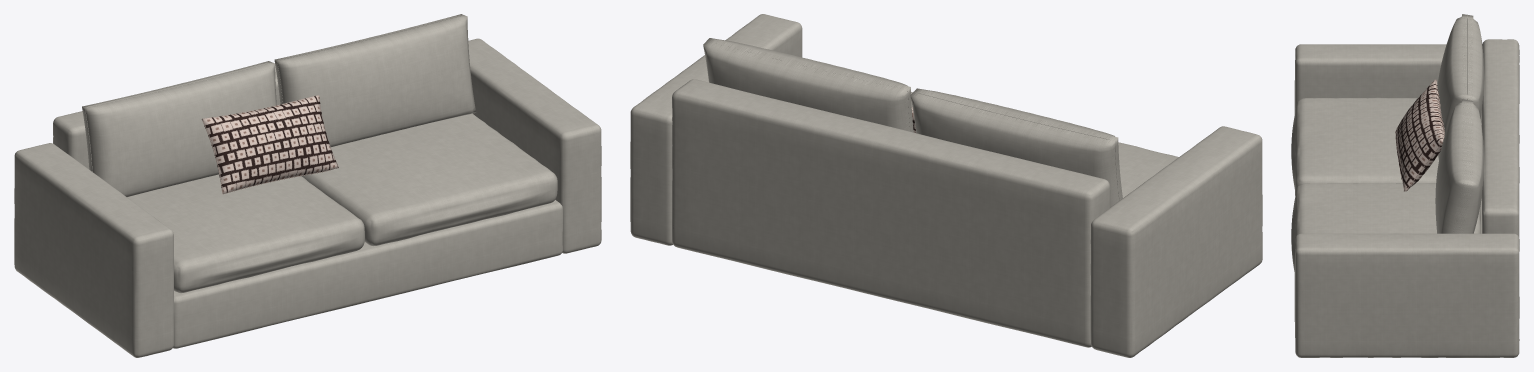
File: stanza-two-seat-01.glb
3 renders of one model, left to right at view 1: azimuth 30°, elevation 25°; view 2: azimuth 150°, elevation 25°; view 3: azimuth 270°, elevation 25°, orthographic. The views are drawn at different scales.
Parts seen in each view (by area): view 1: arm_l, base_band, seat_cushion_2, seat_cushion_1, back_cushion_2_cover, back_cushion_1_cover, arm_r, pillow_1_cover, back_panel; view 2: back_panel, arm_l, back_cushion_1_cover, back_cushion_2_cover, arm_r, seat_cushion_1; view 3: arm_r, seat_cushion_1, arm_l, seat_cushion_2, back_panel, back_cushion_2_cover, back_cushion_1_cover, pillow_1_cover.
Boxes of the visible parts, bbox=[...] form: arm_l: bbox=[14, 143, 173, 357]; base_band: bbox=[173, 200, 562, 348]; seat_cushion_2: bbox=[301, 113, 557, 246]; seat_cushion_1: bbox=[127, 174, 364, 293]; back_cushion_2_cover: bbox=[274, 14, 476, 147]; back_cushion_1_cover: bbox=[82, 61, 276, 197]; arm_r: bbox=[468, 38, 601, 253]; pillow_1_cover: bbox=[201, 95, 338, 194]; back_panel: bbox=[53, 64, 280, 169]; back_panel: bbox=[672, 79, 1110, 347]; arm_l: bbox=[1090, 126, 1262, 357]; back_cushion_1_cover: bbox=[910, 88, 1122, 207]; back_cushion_2_cover: bbox=[703, 38, 913, 132]; arm_r: bbox=[630, 14, 802, 245]; seat_cushion_1: bbox=[1118, 142, 1178, 197]; arm_r: bbox=[1294, 233, 1519, 357]; seat_cushion_1: bbox=[1291, 97, 1481, 195]; arm_l: bbox=[1294, 44, 1519, 123]; seat_cushion_2: bbox=[1291, 183, 1480, 271]; back_panel: bbox=[1481, 39, 1519, 318]; back_cushion_2_cover: bbox=[1435, 99, 1483, 233]; back_cushion_1_cover: bbox=[1437, 14, 1483, 159]; pillow_1_cover: bbox=[1395, 79, 1444, 191].
Bounding box in the file's own units: 2.64 × 0.9347 × 1.22.
Materials: 3 (2 with a texture image).
